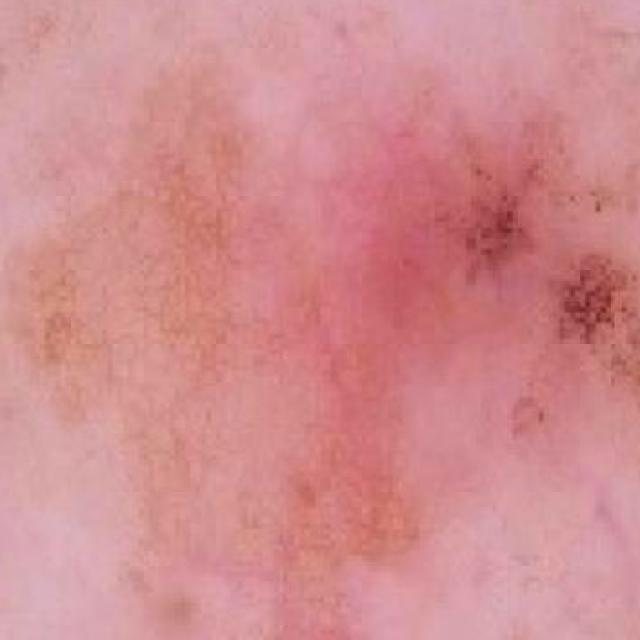BCC: (382, 94, 640, 502)
